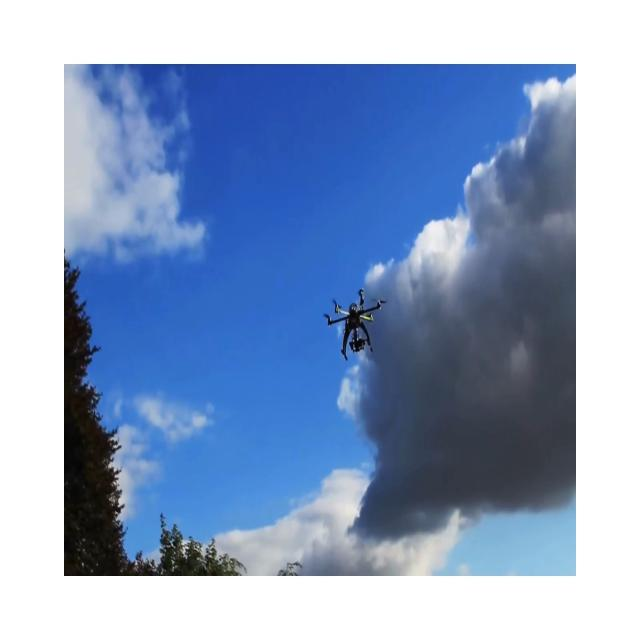drone: (323, 288, 387, 360)
